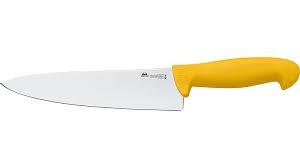Knife: (0, 56, 299, 111)
